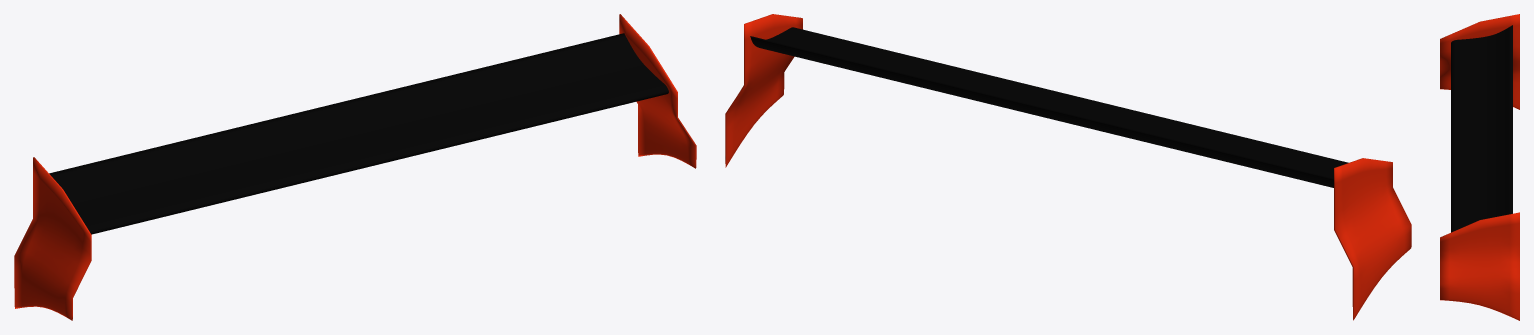
3 renders of one model, left to right at view 1: azimuth 30°, elevation 25°; view 2: azimuth 150°, elevation 25°; view 3: azimuth 270°, elevation 25°, orthographic. The views are drawn at different scales.
Parts seen in each view (by area): view 1: RW5; view 2: RW5; view 3: RW5.
Part boxes in pixels (x1=…): RW5: x1=14, y1=14, x2=696, y2=320; RW5: x1=725, y1=14, x2=1411, y2=320; RW5: x1=1440, y1=14, x2=1519, y2=320.
Size of the model in its own units: 2.41 by 0.5436 by 0.3844.
